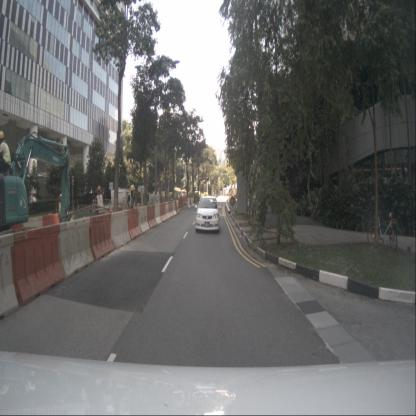barrier: (10, 224, 64, 306), (57, 216, 94, 280), (0, 233, 19, 318), (88, 213, 114, 262), (110, 209, 132, 250), (42, 212, 61, 242), (23, 215, 44, 242), (127, 207, 142, 241), (137, 205, 150, 234), (147, 204, 157, 230), (154, 203, 162, 226), (160, 201, 168, 223), (163, 201, 171, 220), (174, 199, 181, 215), (168, 200, 174, 218), (172, 200, 177, 216), (187, 197, 193, 209), (191, 197, 195, 207), (182, 196, 186, 203), (184, 196, 188, 201)
